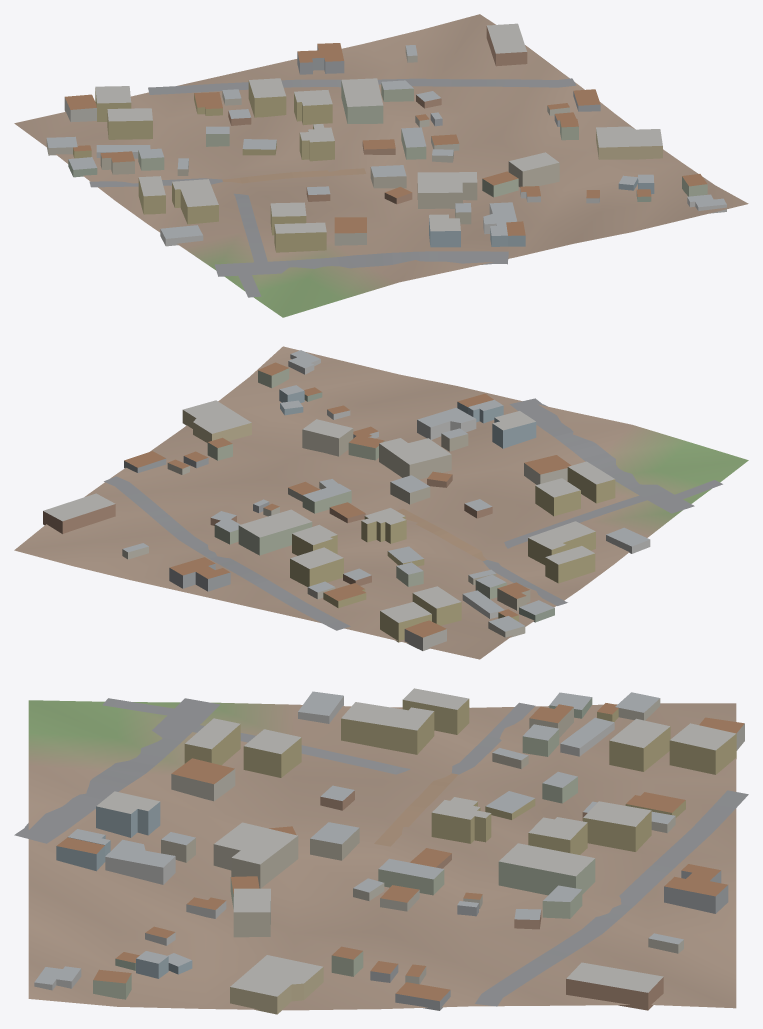
3 renders of one model, top to bottom at view 1: azimuth 30°, elevation 25°; view 2: azimuth 150°, elevation 25°; view 3: azimuth 270°, elevation 25°, orthographic. The views are drawn at different scales.
Visible parts, largest first — view 1: Lo; view 2: Lo; view 3: Lo.
Part boxes in pixels (x1,y1,x2,y2): Lo: (14, 14, 748, 317); Lo: (14, 346, 748, 659); Lo: (14, 688, 748, 1014).
Bounding box in the file's own units: 264 × 14.47 × 266.
